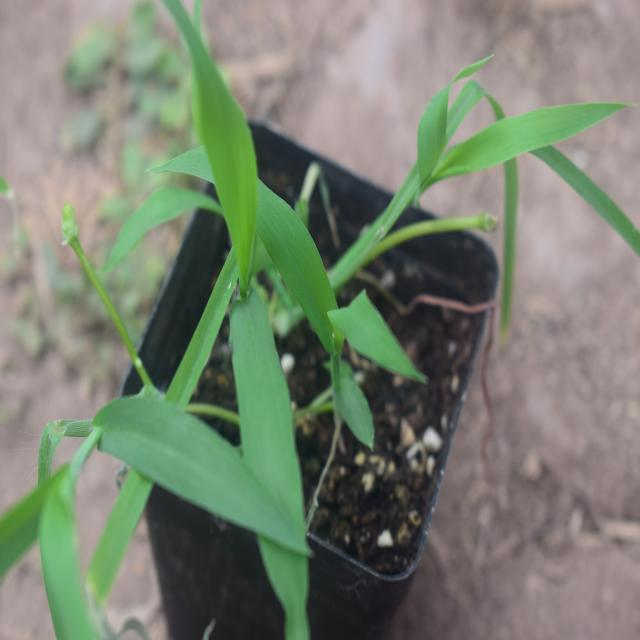crabgrass: (101, 65, 352, 585)
